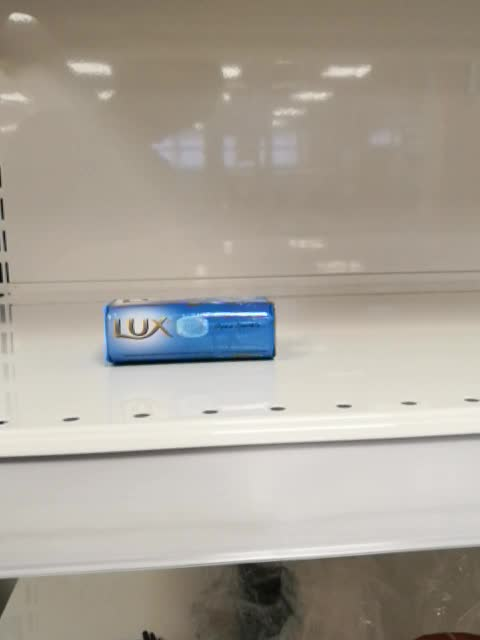soap: (103, 294, 279, 368)
